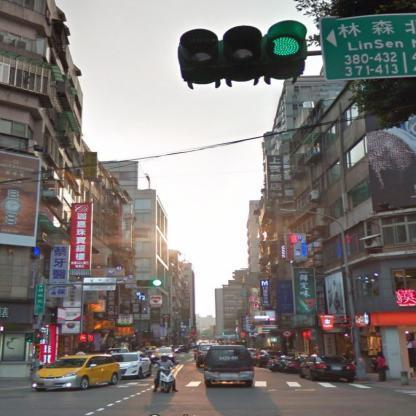Green Light: (178, 22, 307, 74), (133, 278, 163, 288)
